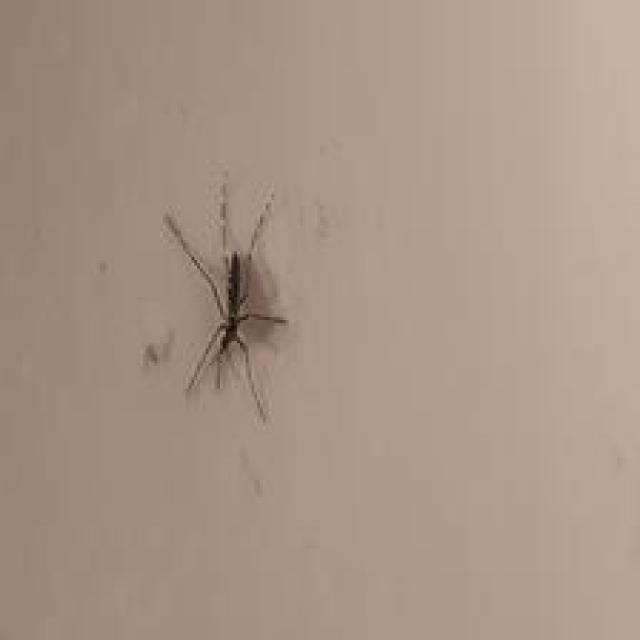Aedes albopictus: (159, 173, 290, 424)
